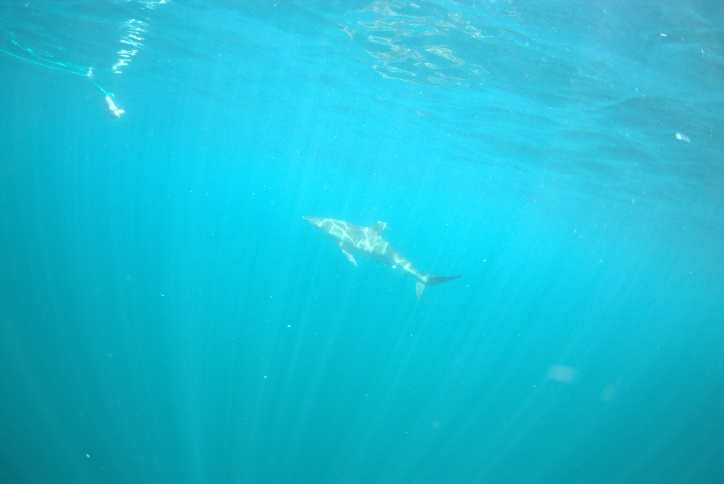Sedoso: (273, 187, 470, 308)
